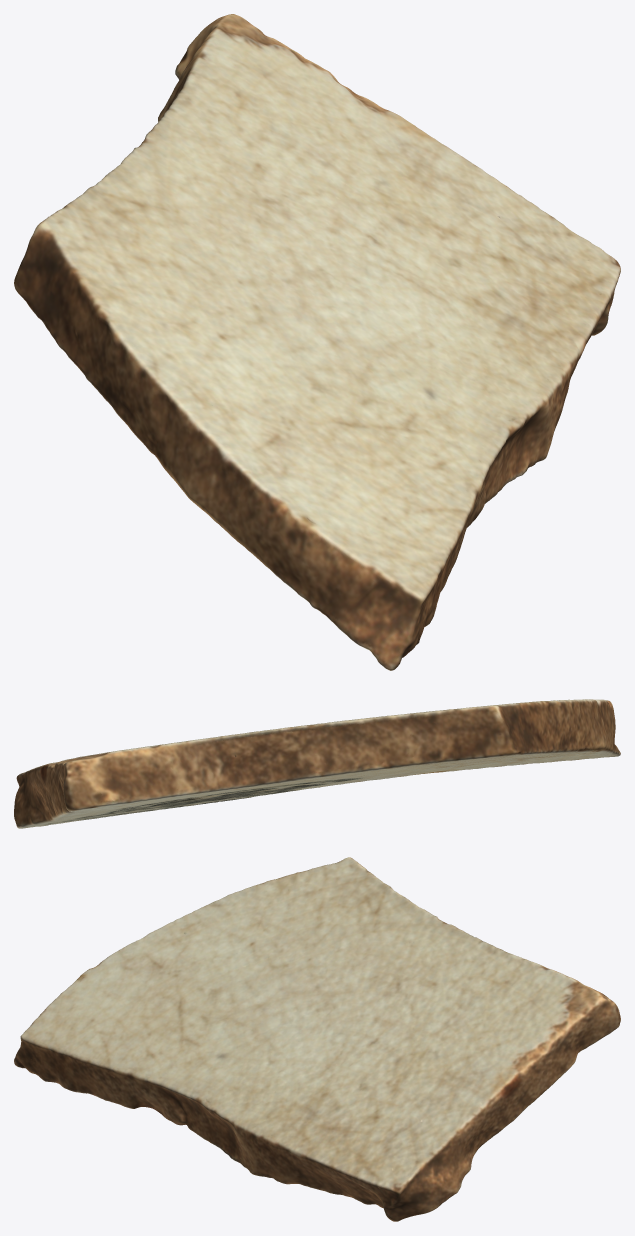
The picture shows the model from 3 angles, top to bottom: view 1: azimuth 30°, elevation 25°; view 2: azimuth 150°, elevation 25°; view 3: azimuth 270°, elevation 25°; orthographic projection. The views are drawn at different scales.
Visible parts, largest first — view 1: Node; view 2: Node; view 3: Node.
Boxes of the visible parts, bbox=[...] form: Node: bbox=[14, 14, 620, 670]; Node: bbox=[14, 699, 620, 828]; Node: bbox=[14, 857, 620, 1221].
Bounding box in the file's own units: 57.02 × 24.14 × 72.42.
1 material, 1 textured.
